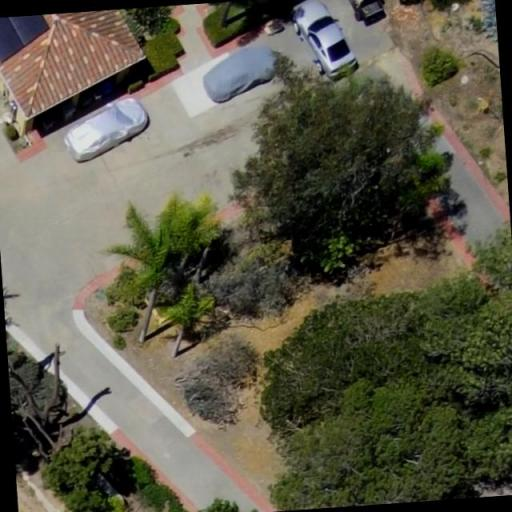solar-panel: (0, 14, 50, 63)
